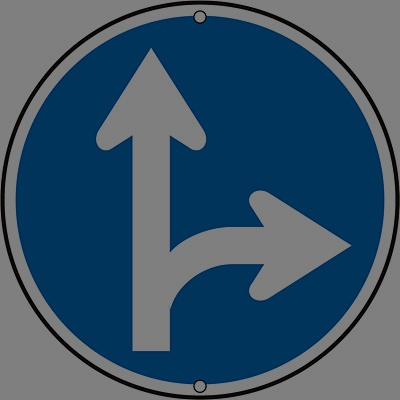Direction_sign: (6, 2, 399, 393)
